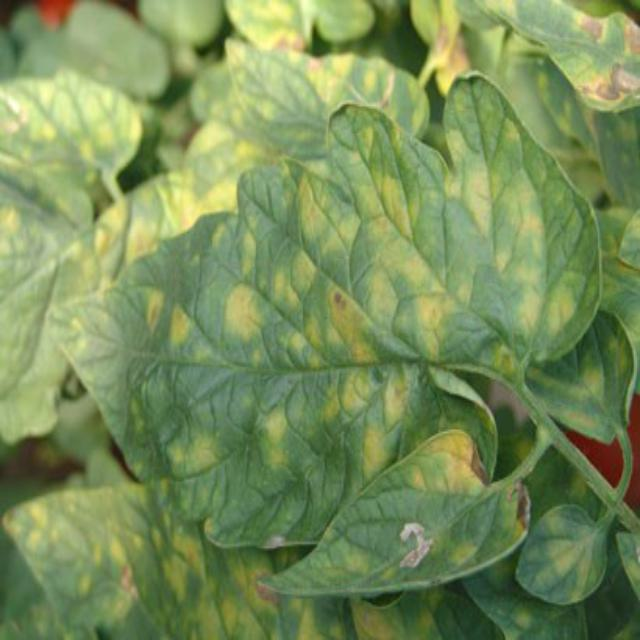Leaf_Mold: (141, 72, 602, 483), (5, 486, 447, 640), (94, 140, 239, 261), (405, 426, 494, 503), (423, 7, 474, 97), (227, 1, 309, 48), (579, 58, 639, 108), (572, 13, 611, 46)
